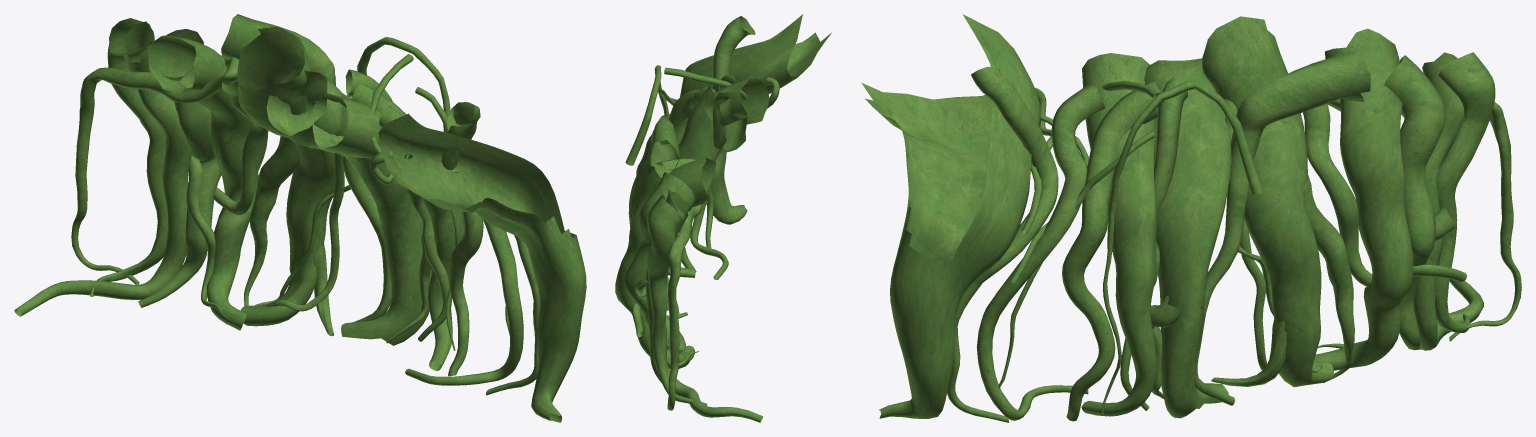
Rendered from SM_ENV_KNFRST_MassiveRootsIn_B.FBX.
The picture shows the model from 3 angles, left to right: view 1: azimuth 30°, elevation 25°; view 2: azimuth 150°, elevation 25°; view 3: azimuth 270°, elevation 25°; orthographic projection. The views are drawn at different scales.
Visible parts, largest first — view 1: SM_ENV_KNFRST_MassiveRootsIn_B; view 2: SM_ENV_KNFRST_MassiveRootsIn_B; view 3: SM_ENV_KNFRST_MassiveRootsIn_B.
Part boxes in pixels (<box>): SM_ENV_KNFRST_MassiveRootsIn_B: <box>14,14,586,422</box>; SM_ENV_KNFRST_MassiveRootsIn_B: <box>615,14,831,422</box>; SM_ENV_KNFRST_MassiveRootsIn_B: <box>861,14,1521,422</box>.
Size of the model in its own units: 2859 by 2767 by 4511.
